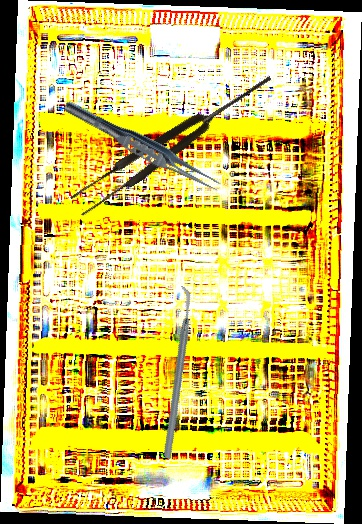Chopper: (100, 285, 251, 460)
Tissue Forceps: (67, 66, 280, 219), (59, 96, 226, 197)
